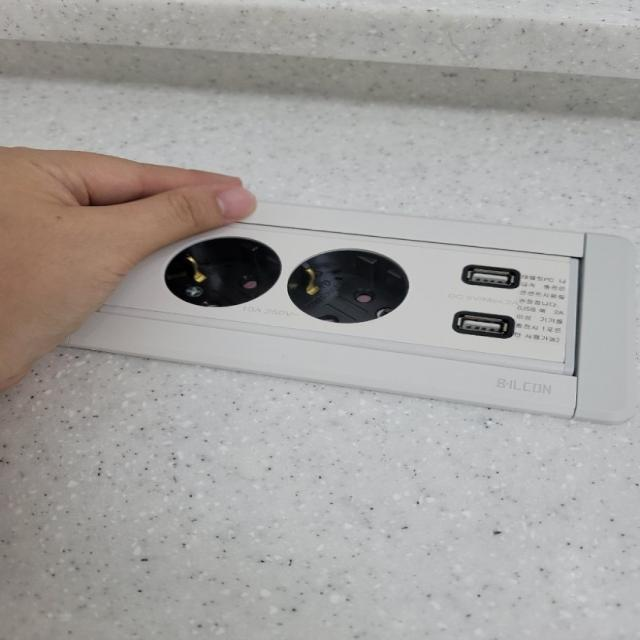typeb: (94, 160, 626, 444)
